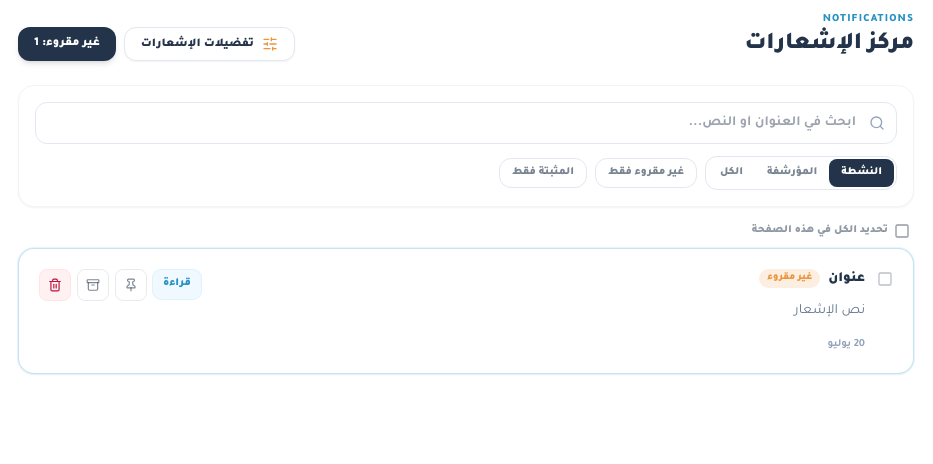
Test case: NotificationsCenterPage — multi-select and bulk actions › shows the bulk toolbar only when at least one item is selected, and hides it after clearing
expect the text "عنوان" is shown: met, box [828,268,865,288]
expect the text "إلغاء التحديد" is not shown: met
Click the button named "تحديد".
click(885, 278)  # box [877,270,893,286]
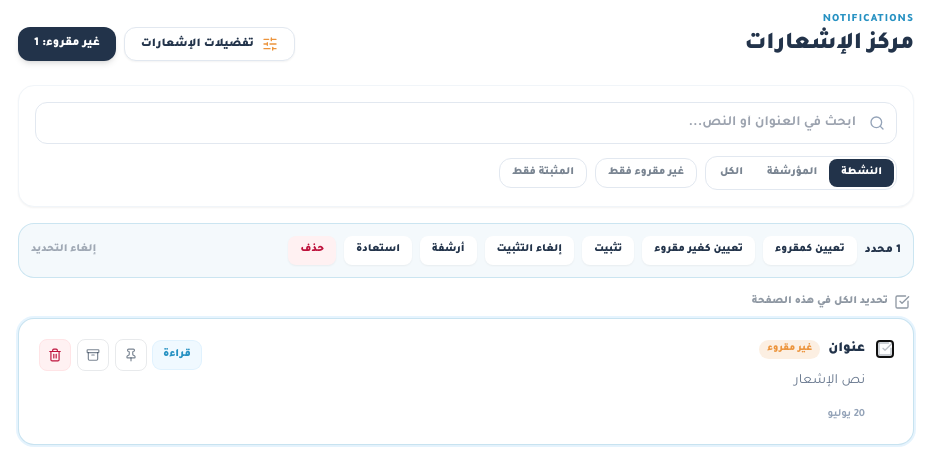
expect the text "1 محدد" is shown: met, box [865,241,901,259]
Click the button "إلغاء التحديد".
click(64, 250)  # box [31,242,96,258]
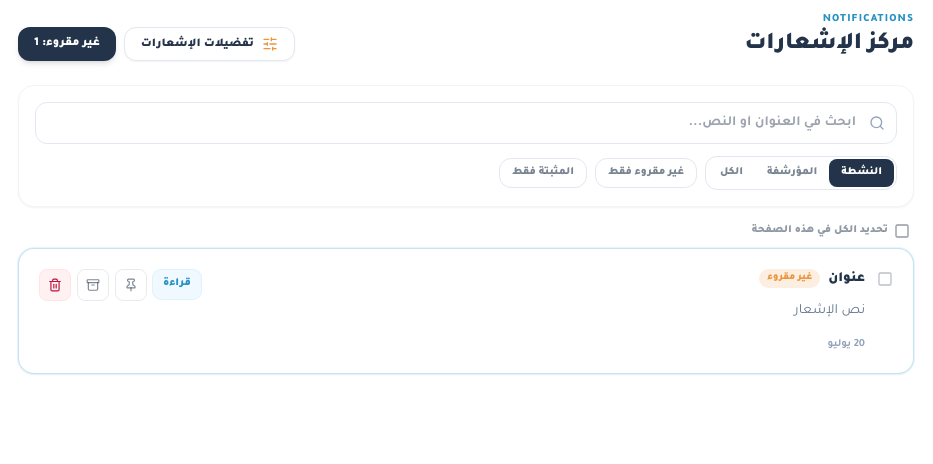
expect the button "إلغاء التحديد" is gone: met
